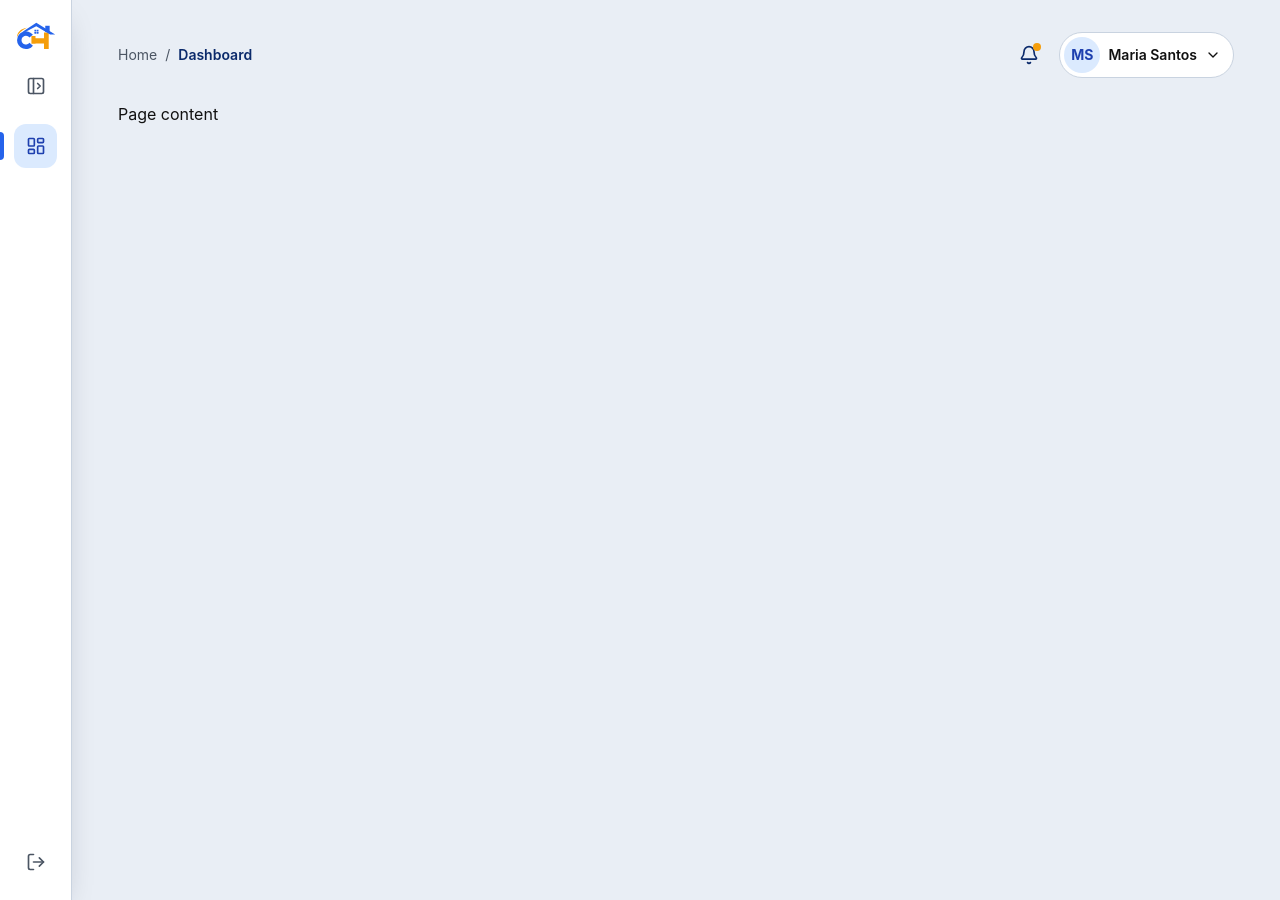
it: collapsible sidebar › shows a tooltip on hover and keyboard focus, and hides it on Esc
Hover over the link named "Dashboard".
mouse_move(36, 146)  # box [14,124,57,168]
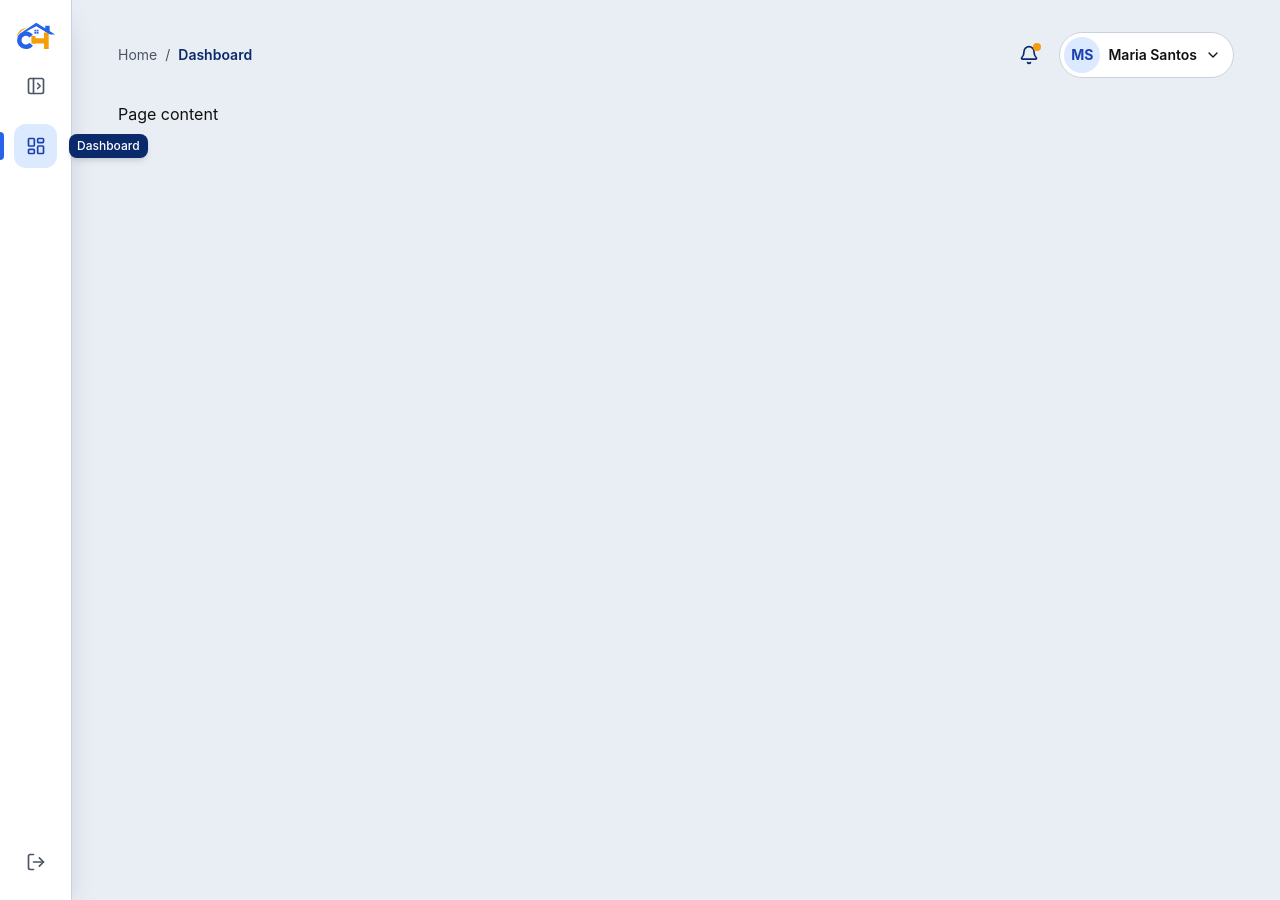
Result: the element with test id "sidebar-tooltip" reads "Dashboard" at [77,138,140,153]
Move the pointer off the link named "Dashboard", box [14,124,57,168]
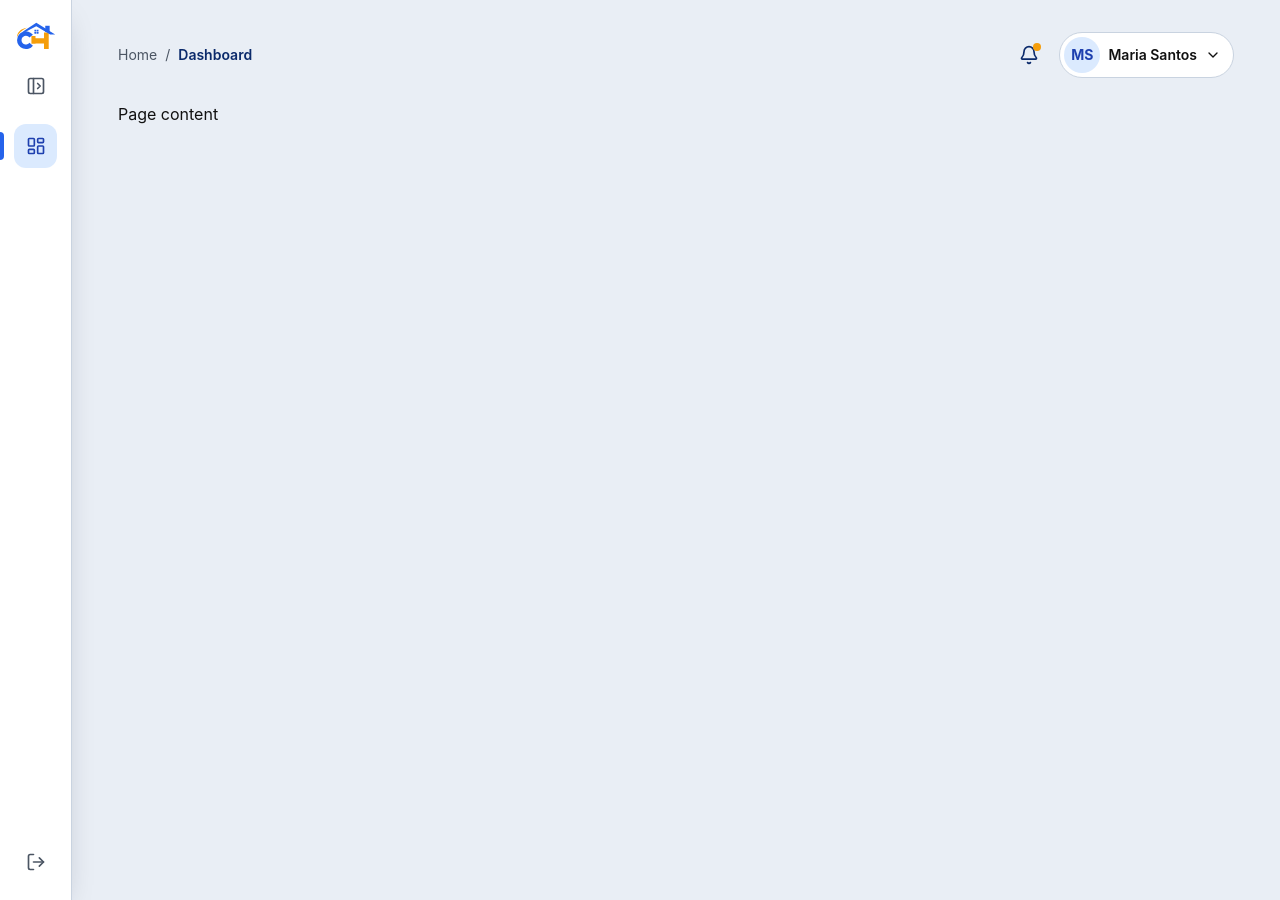
Result: the element with test id "sidebar-tooltip" is gone
Press Tab
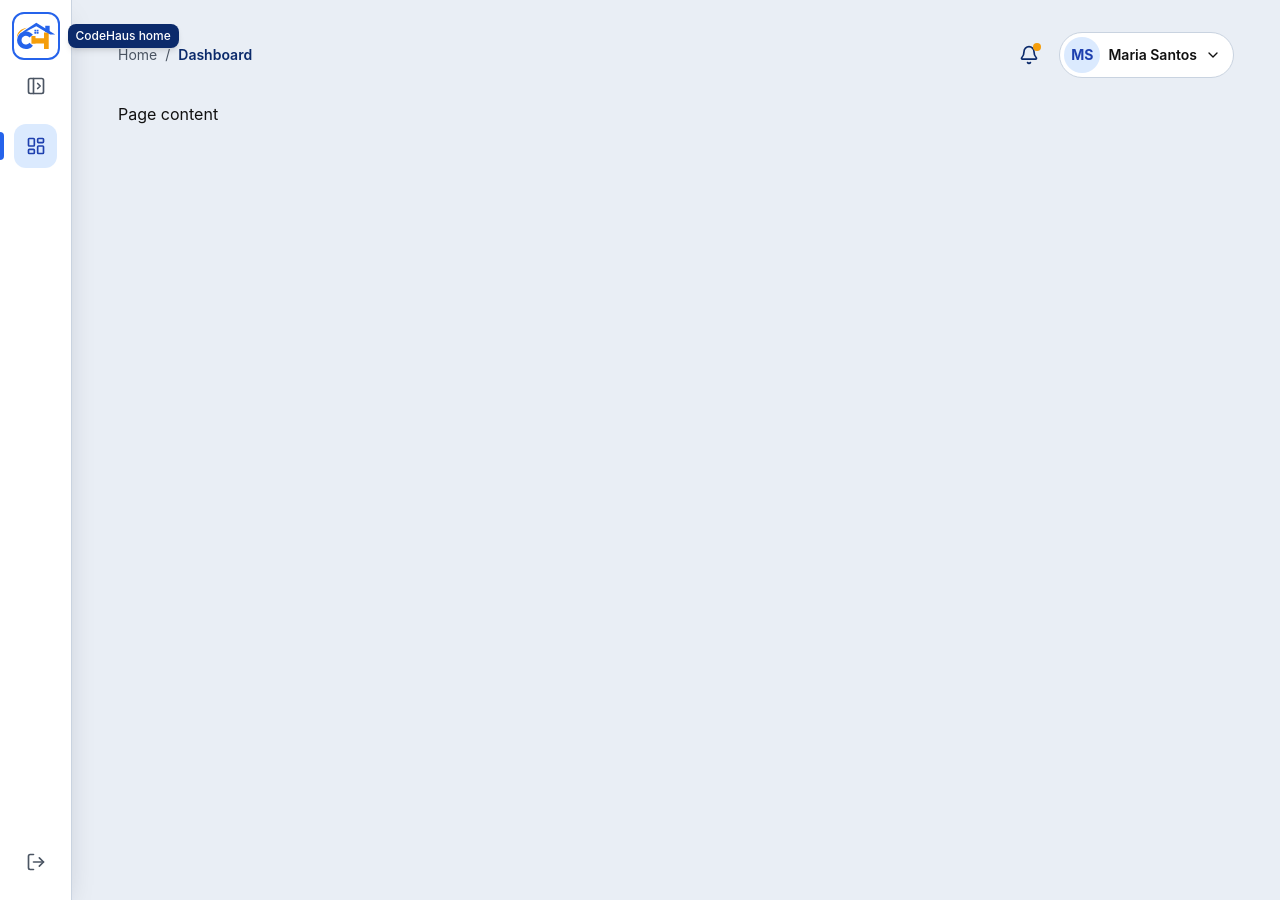
Press Tab
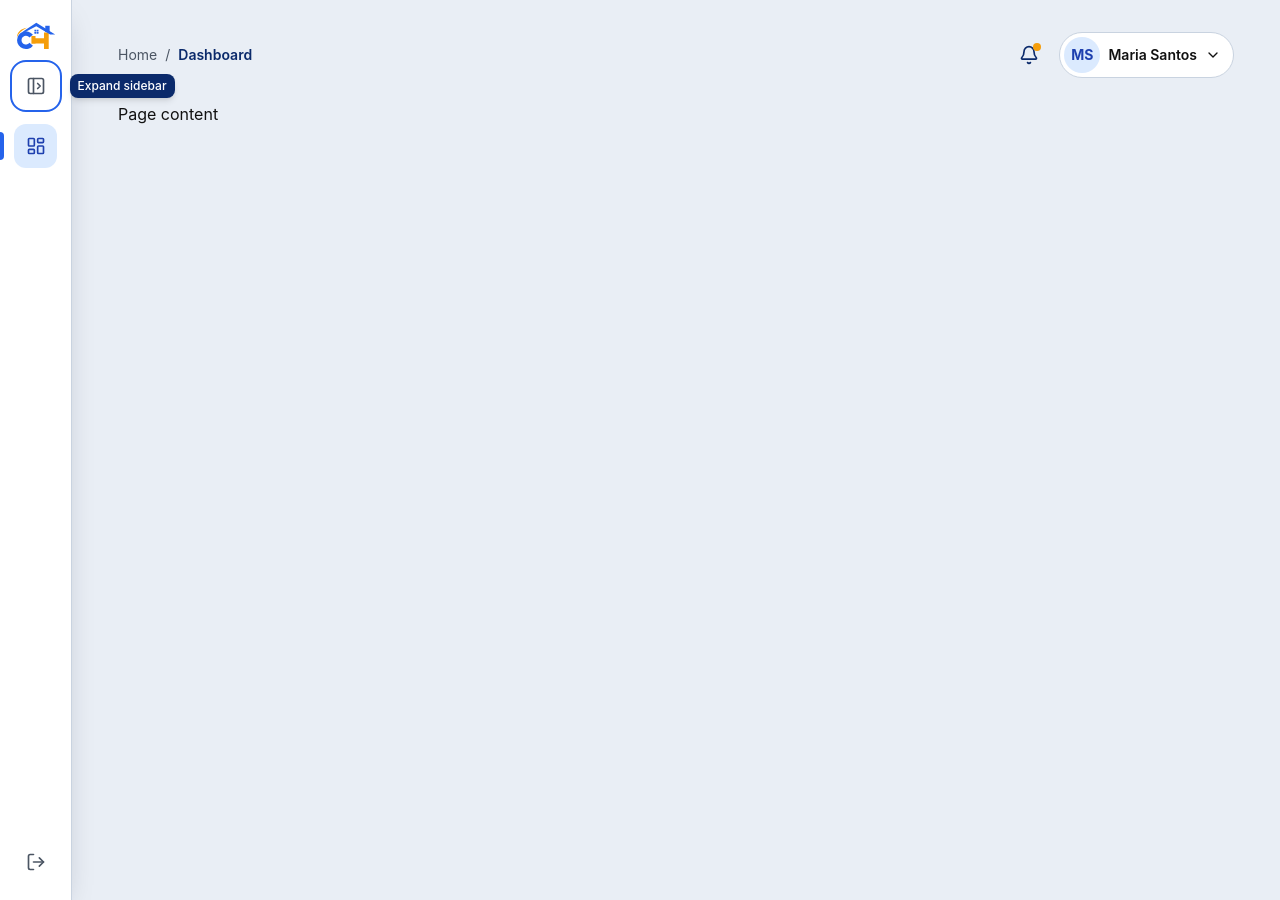
Press Tab
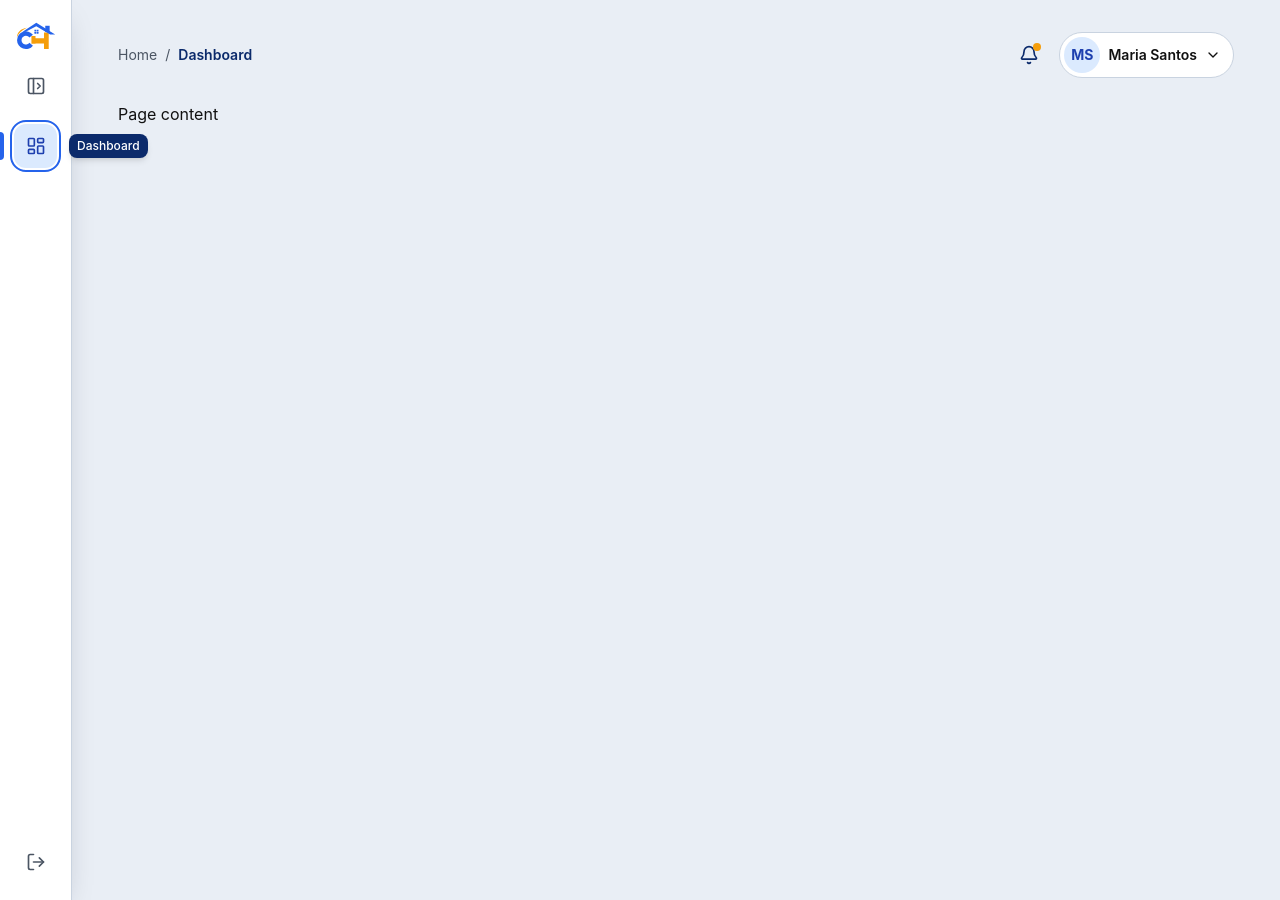
Result: the element with test id "sidebar-tooltip" reads "Dashboard" at [77,138,140,153]
Press Escape
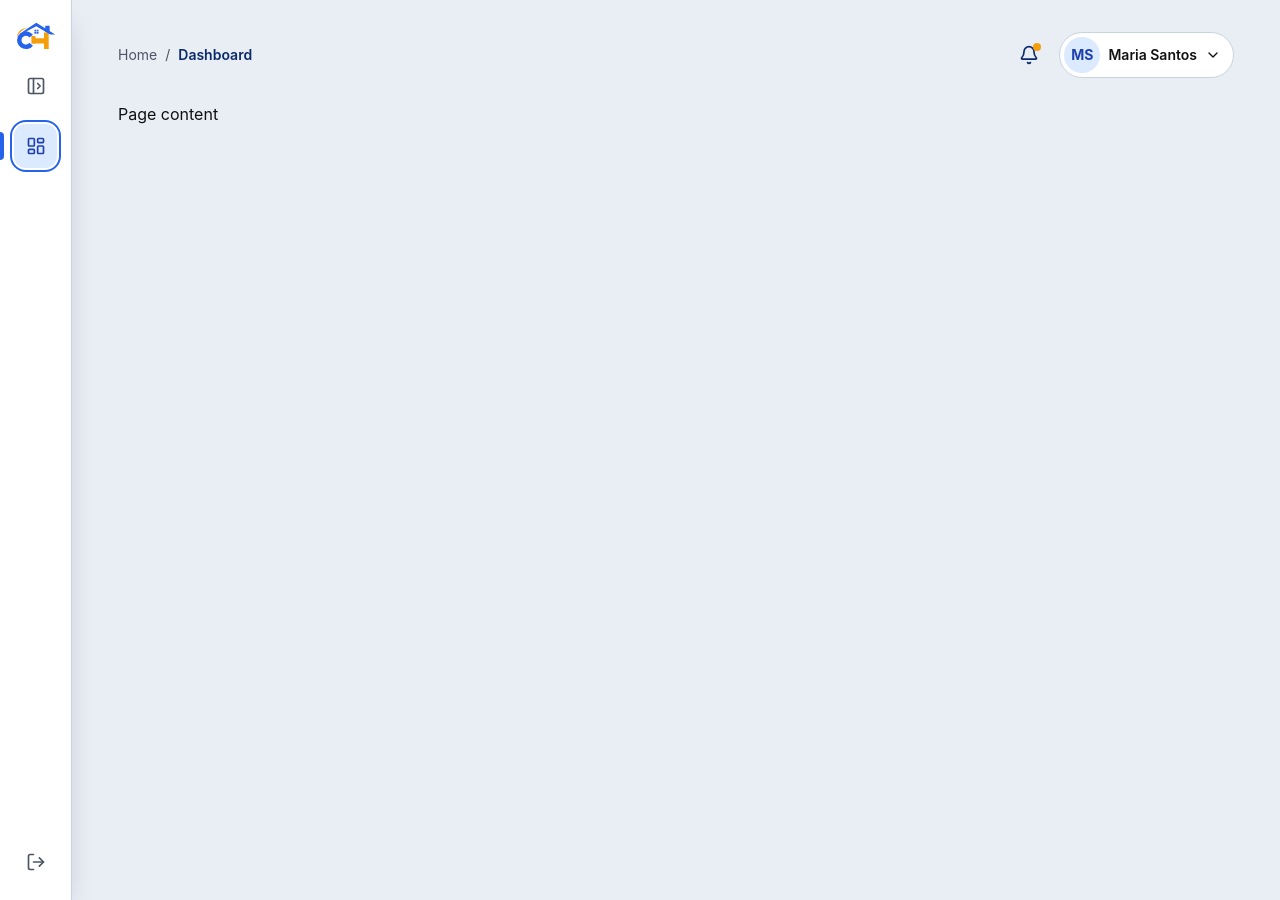
Result: the element with test id "sidebar-tooltip" is gone
